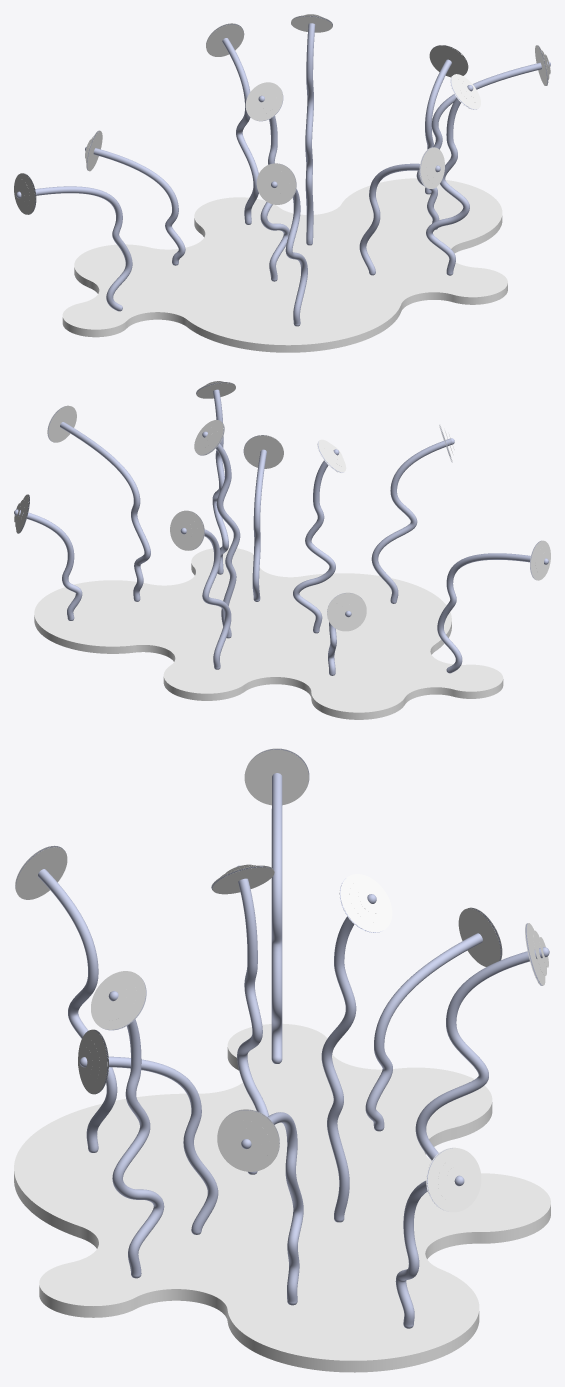
File: reignite.fbx
3 views of the same model, one above another, from view 1: azimuth 30°, elevation 25°; view 2: azimuth 150°, elevation 25°; view 3: azimuth 270°, elevation 25° (orthographic). The views are drawn at different scales.
Visible parts, largest first — view 1: 草皮 - Copy, 銅管 (×10), 晶圓片; view 2: 草皮 - Copy, 銅管 (×9), 晶圓片; view 3: 草皮 - Copy, 銅管 (×10), 晶圓片, 大壓 (×3).
Part boxes in pixels (x1=…): 草皮 - Copy: x1=62, y1=178, x2=507, y2=352; 銅管 (×10): x1=16, y1=23, x2=550, y2=326; 晶圓片: x1=14, y1=15, x2=548, y2=214; 草皮 - Copy: x1=34, y1=547, x2=503, y2=719; 銅管 (×9): x1=14, y1=389, x2=548, y2=673; 晶圓片: x1=16, y1=382, x2=550, y2=631; 草皮 - Copy: x1=14, y1=1023, x2=550, y2=1372; 銅管 (×10): x1=38, y1=773, x2=549, y2=1328; 晶圓片: x1=15, y1=748, x2=545, y2=1212; 大壓 (×3): x1=96, y1=977, x2=476, y2=1203.
Bounding box in the file's own units: 144 × 61.48 × 83.29.
